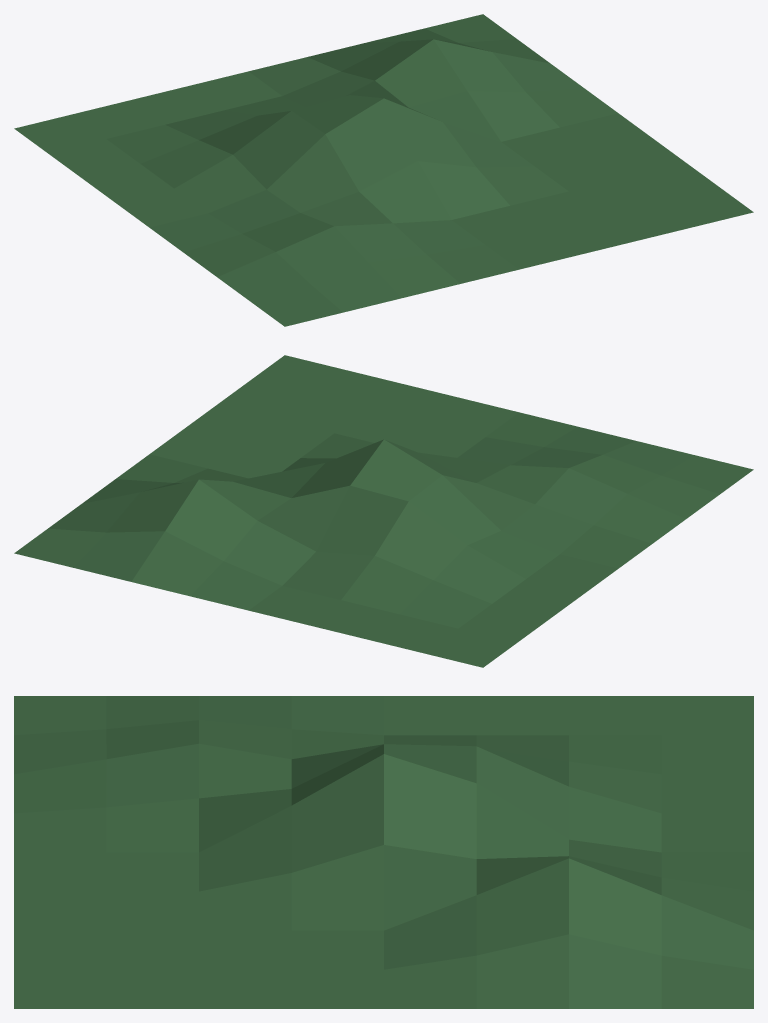
The model's file is Terrain_2_Light_Green.fbx.
The picture shows the model from 3 angles, top to bottom: view 1: azimuth 30°, elevation 25°; view 2: azimuth 150°, elevation 25°; view 3: azimuth 270°, elevation 25°; orthographic projection. The views are drawn at different scales.
Visible parts, largest first — view 1: Terrain_2_Light_Green; view 2: Terrain_2_Light_Green; view 3: Terrain_2_Light_Green.
Part boxes in pixels (x1,y1,x2,y2): Terrain_2_Light_Green: [14, 14, 753, 326]; Terrain_2_Light_Green: [14, 355, 753, 667]; Terrain_2_Light_Green: [14, 696, 753, 1008].
Size of the model in its own units: 2000 by 294 by 2000.
